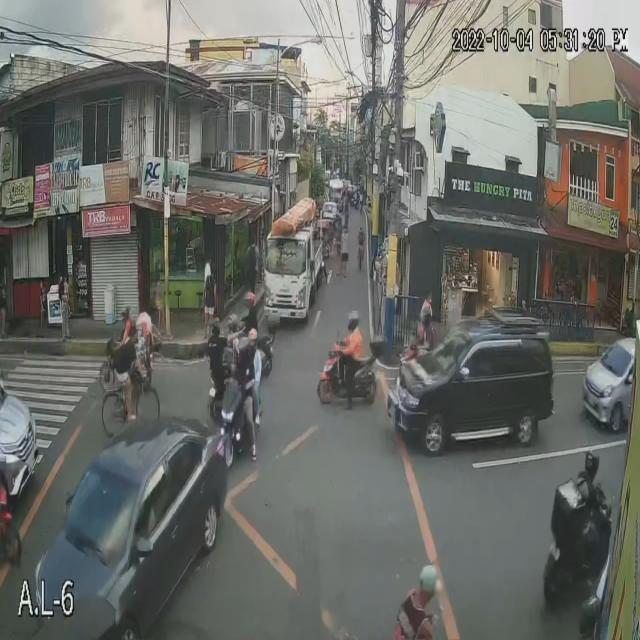full: (347, 310, 358, 332), (244, 292, 256, 310), (120, 305, 132, 323), (227, 314, 238, 331), (210, 317, 220, 334)
half: (246, 329, 258, 351), (237, 337, 249, 358)
